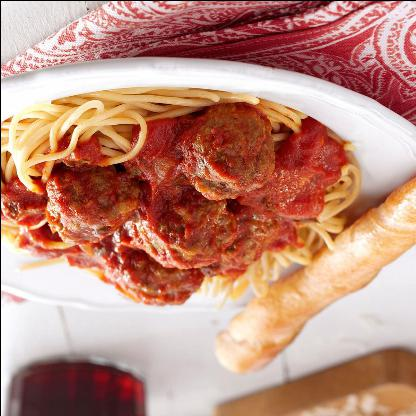spaghetti: (1, 86, 359, 309)
